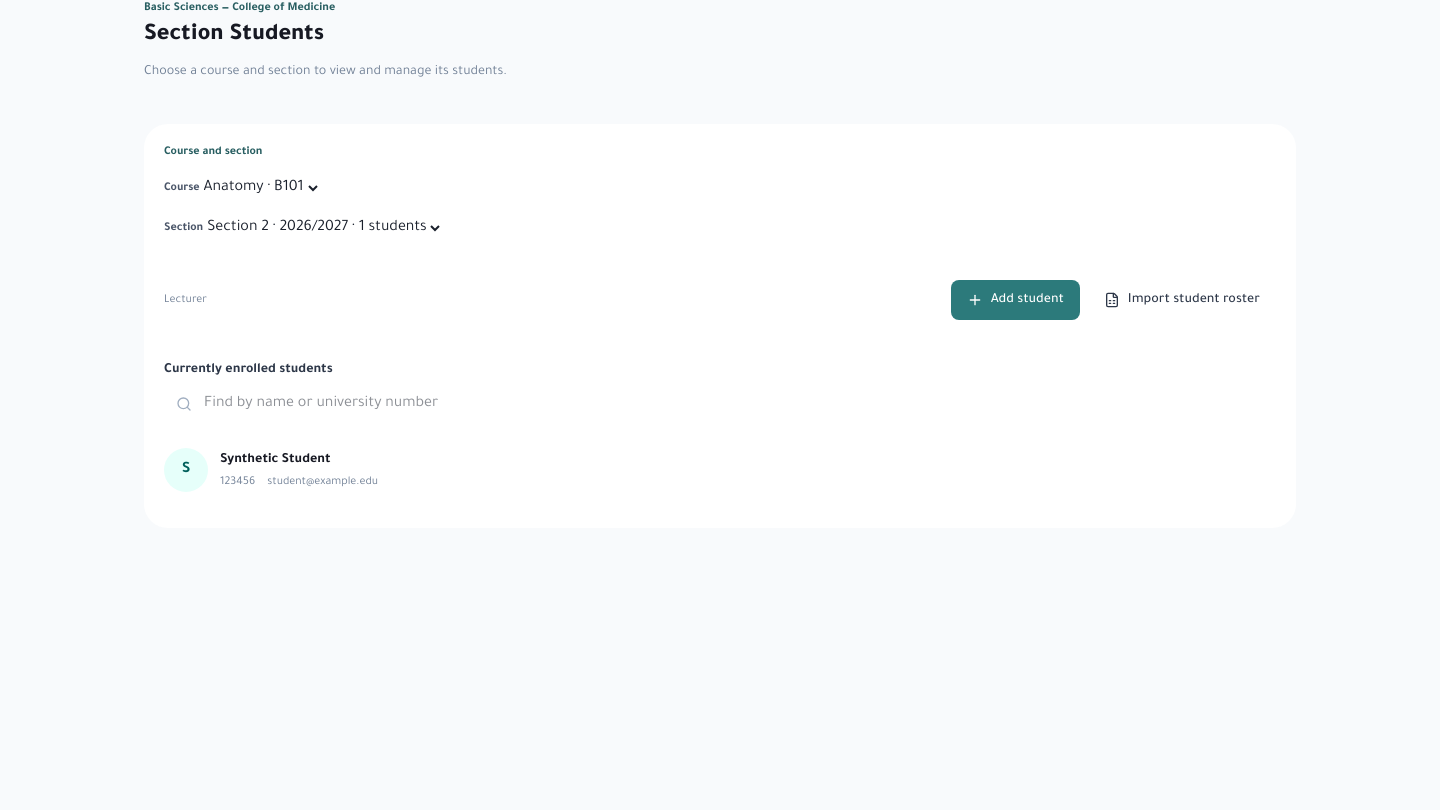
Test case: Basic attendance course → section workflow › adds one student manually without opening the Excel importer
Expected: the text "Synthetic Student" is shown, [220,453,330,467]
Step 1. Click the button "Add student" → (1015,300), box [951,280,1080,320]
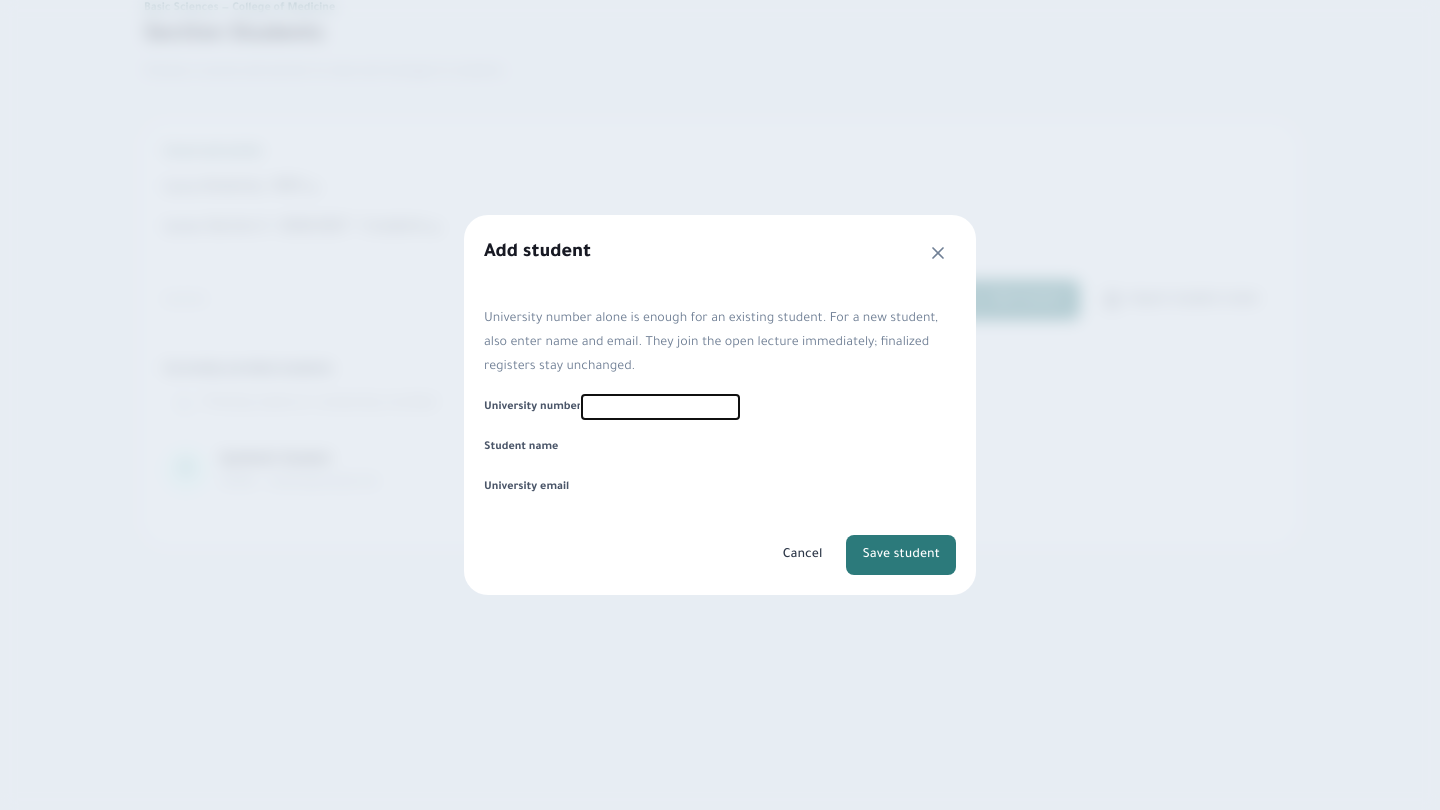
Result: the dialog "Add student" is shown at [464,215,976,595]
Step 2. Type "2600004" into the field labelled "University number" → (660,407), box [582,395,739,419]
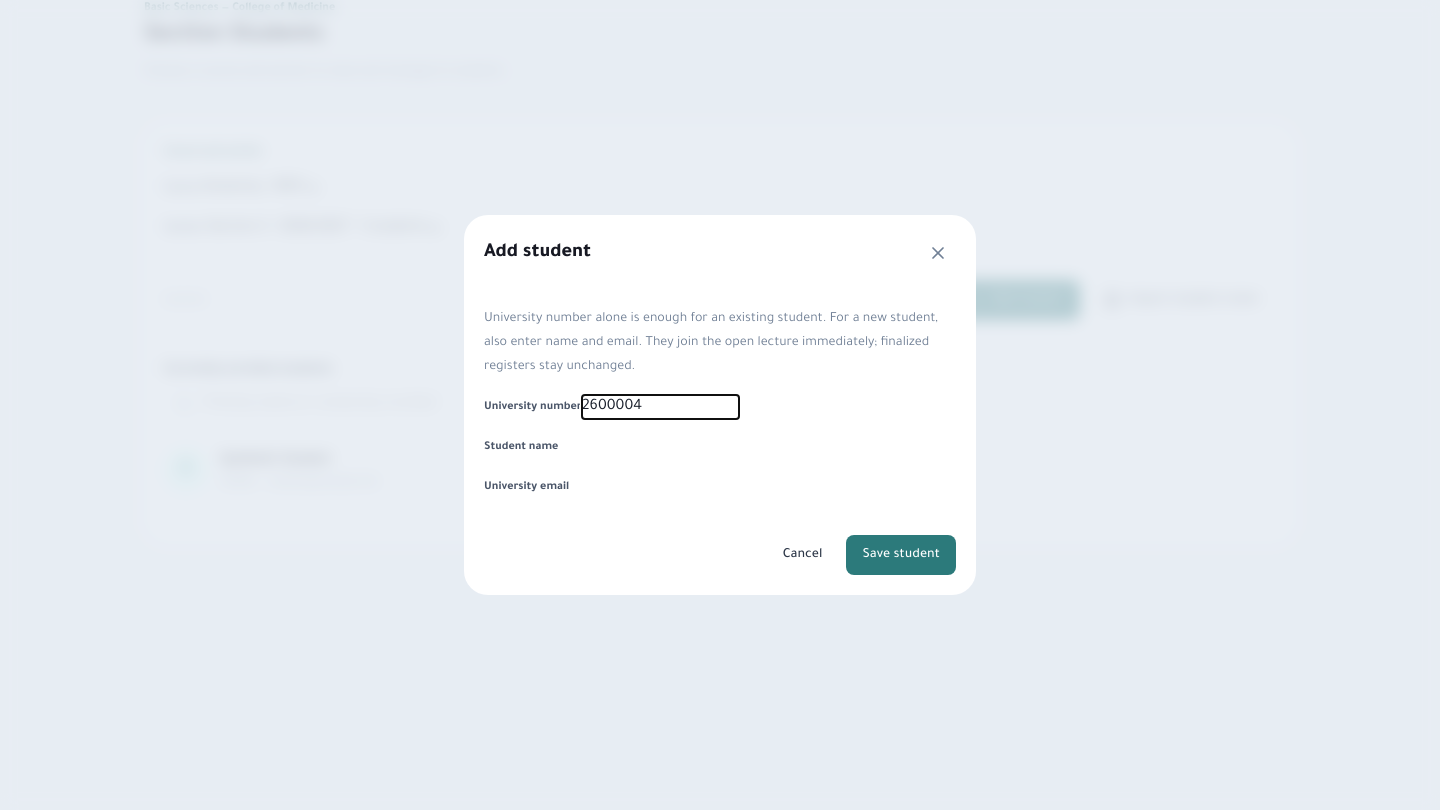
Step 3. Type "Manual Student" into the field labelled "Student name" → (637,447), box [558,435,715,459]
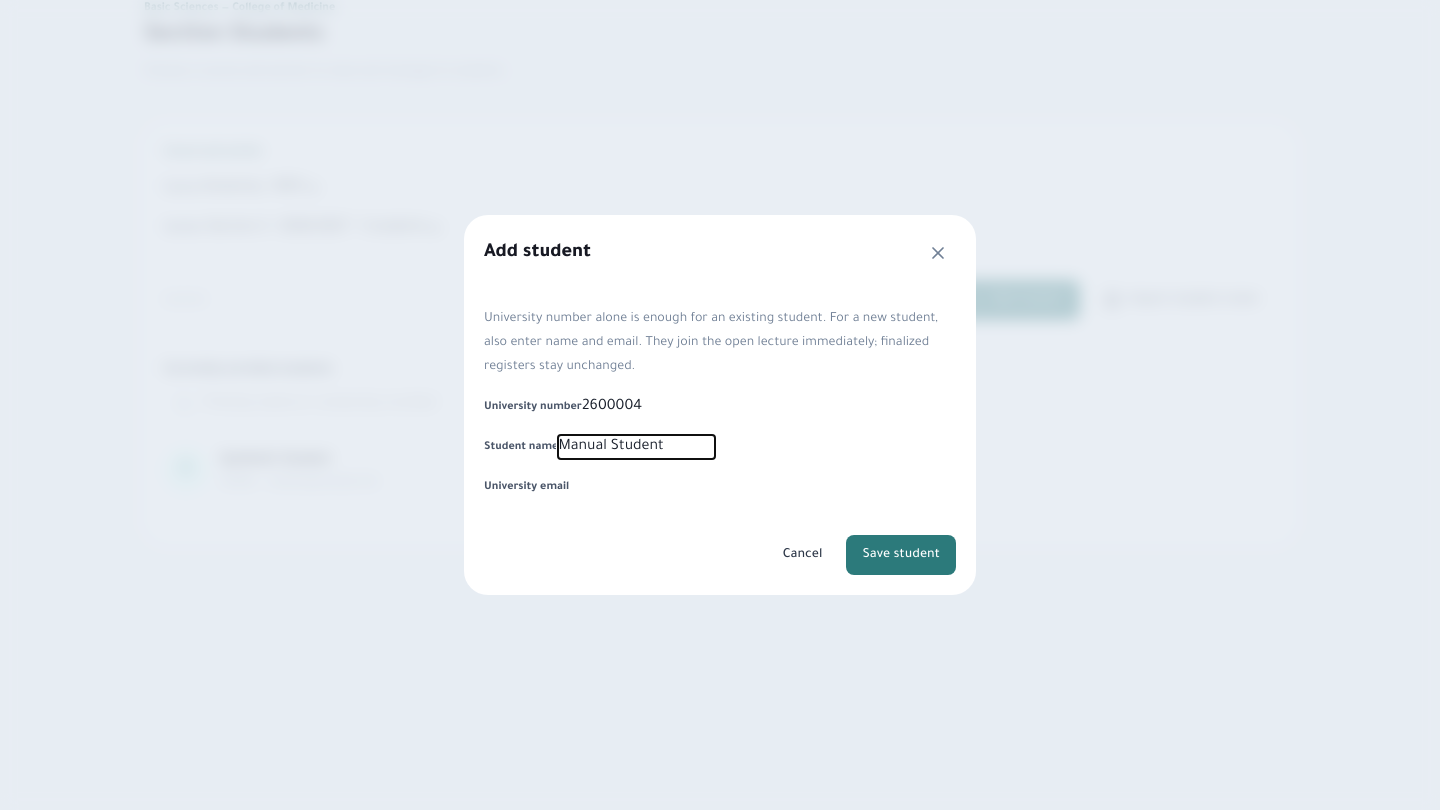
Step 4. Type "manual@example.edu" into the field labelled "University email" → (648,487), box [569,475,726,499]
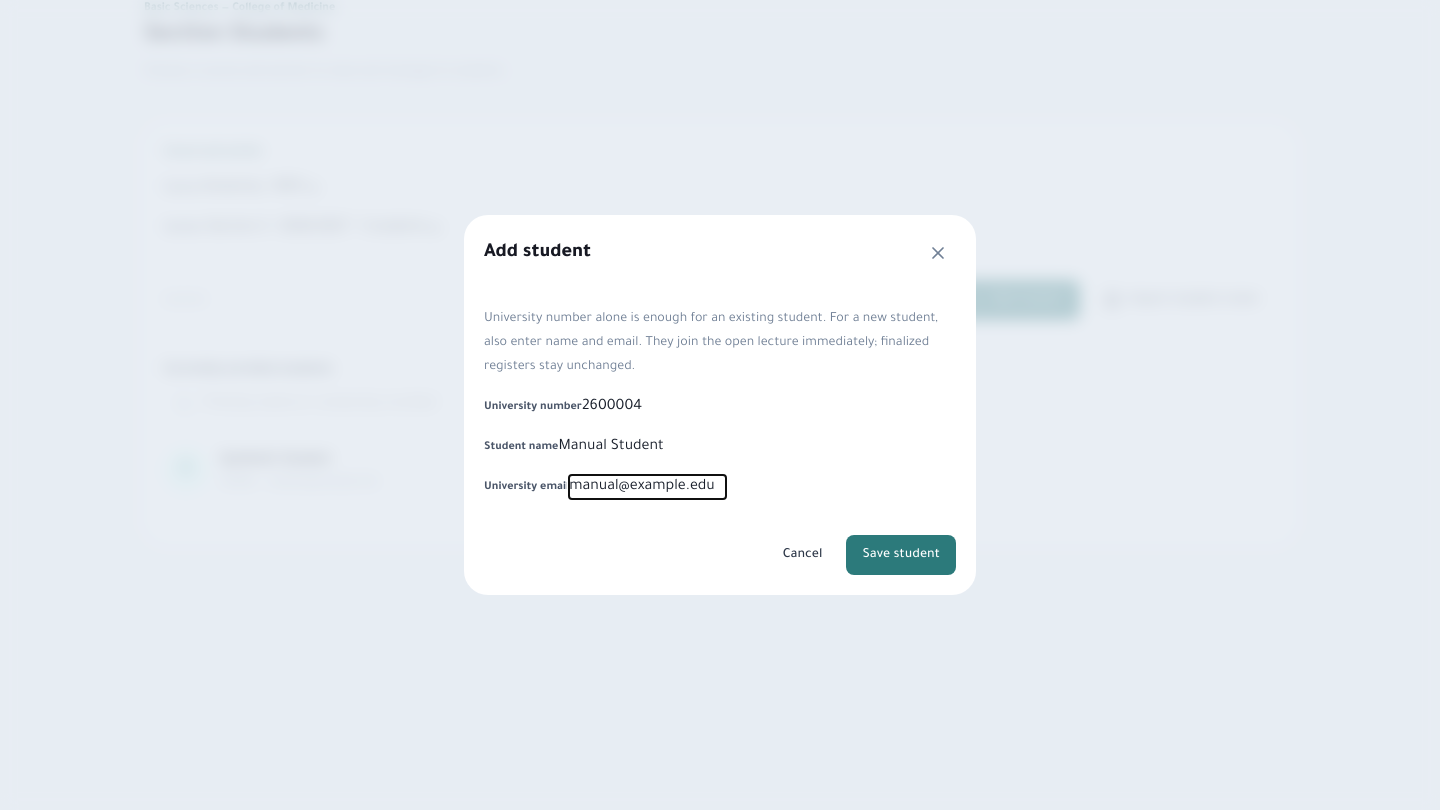
Step 5. Click the button "Save student" → (901,555), box [846,535,956,575]
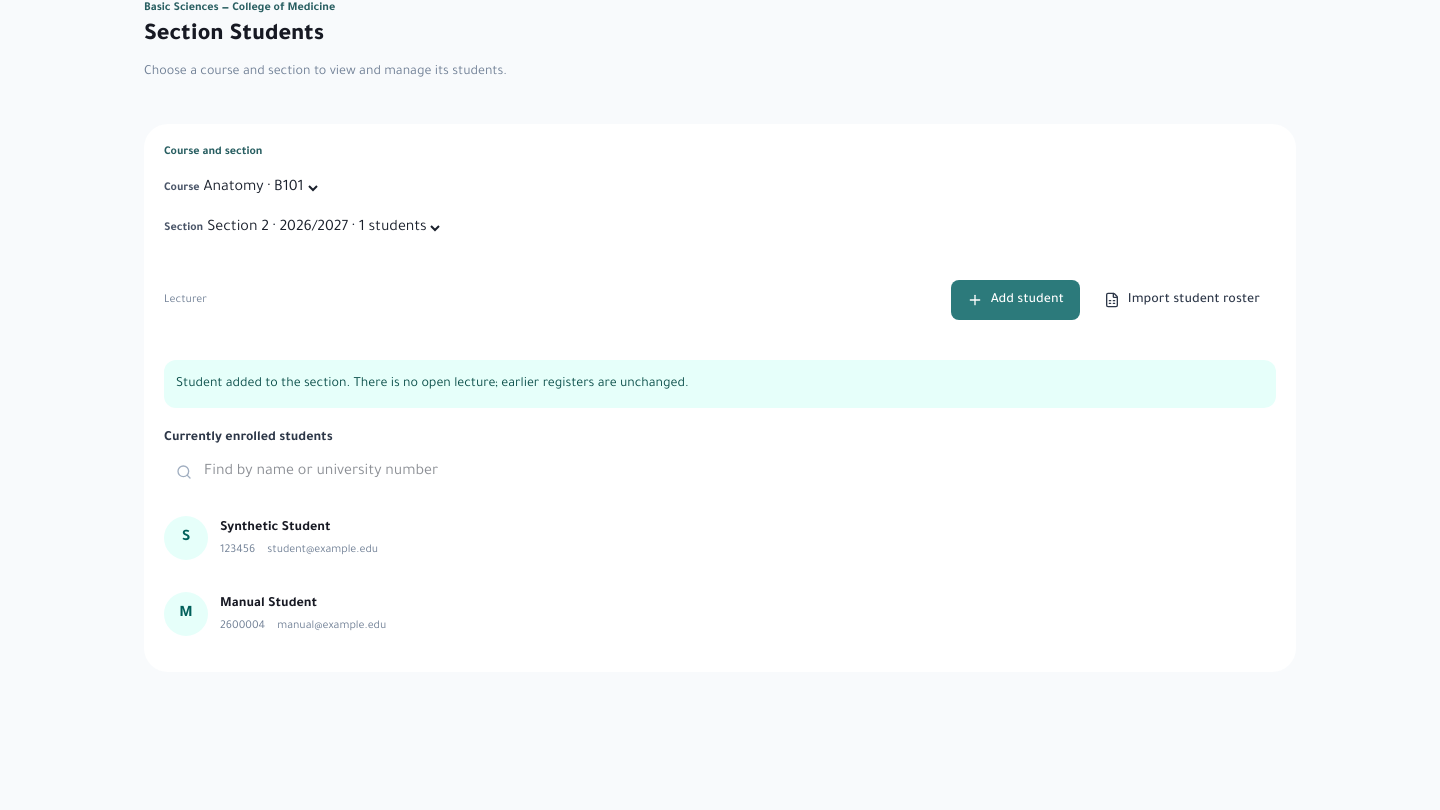
Result: the text "Manual Student" is shown at [220,597,317,611]
Result: the dialog is gone
